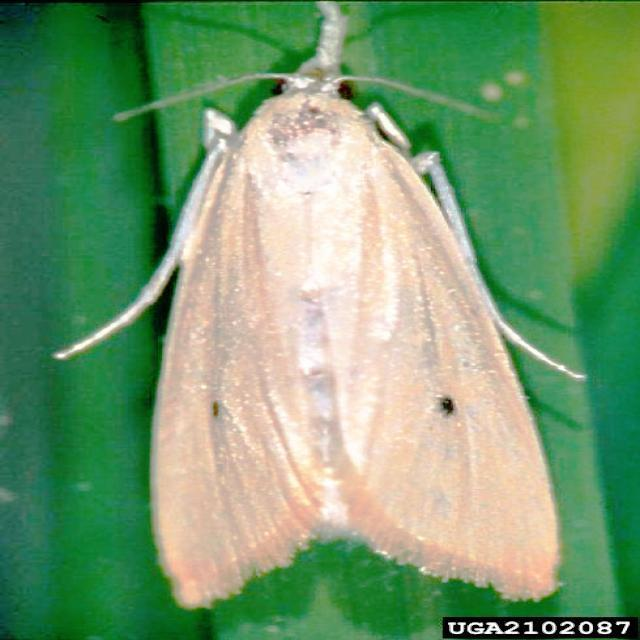stem-borer: (96, 3, 569, 609)
